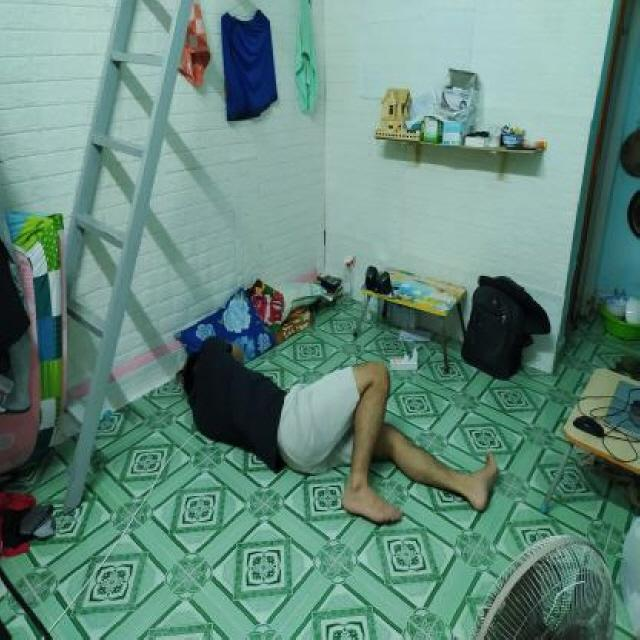Fall: (183, 338, 499, 525)
